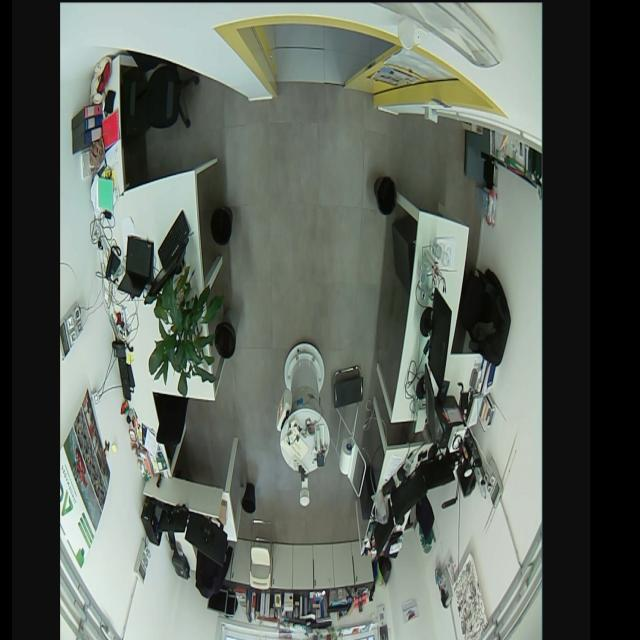Open: (255, 16, 391, 100)
